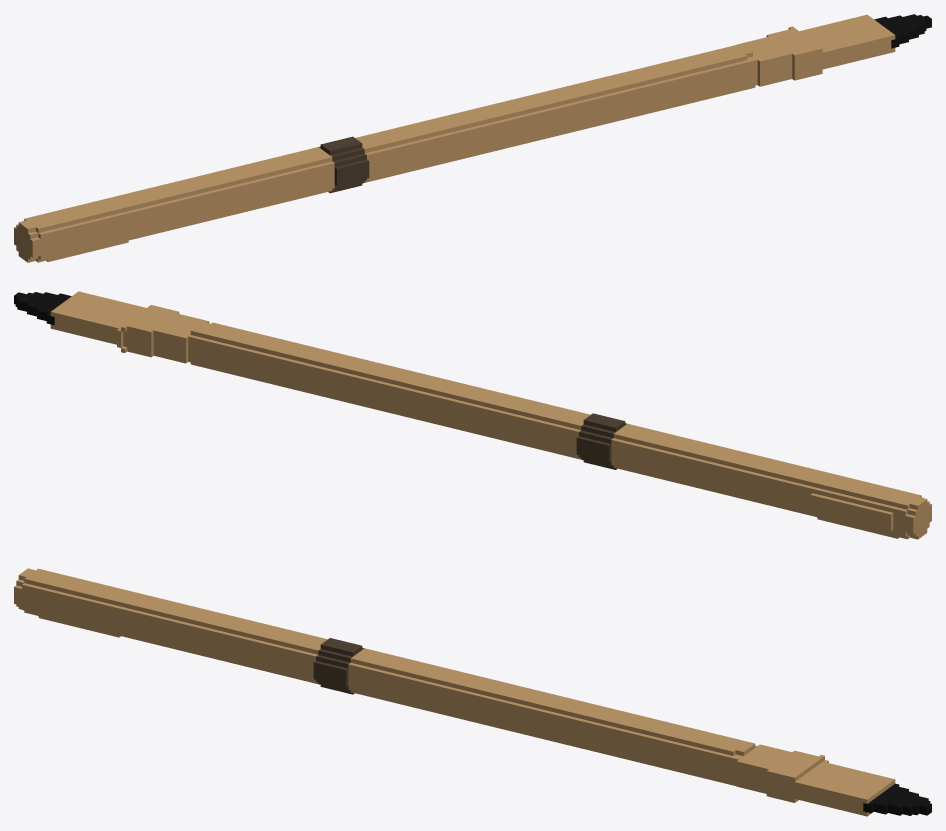
Rendered from digging_stick.glb.
3 renders of one model, top to bottom at view 1: azimuth 30°, elevation 25°; view 2: azimuth 150°, elevation 25°; view 3: azimuth 330°, elevation 25°, orthographic.
Visible parts, largest first — view 1: digging_stick:compound; view 2: digging_stick:compound; view 3: digging_stick:compound.
Boxes of the visible parts, x1,y1,x2,y2 form: digging_stick:compound: (14, 14, 931, 262); digging_stick:compound: (14, 291, 931, 539); digging_stick:compound: (14, 568, 931, 816).
Size of the model in its own units: 0.9 by 0.04 by 0.052.
